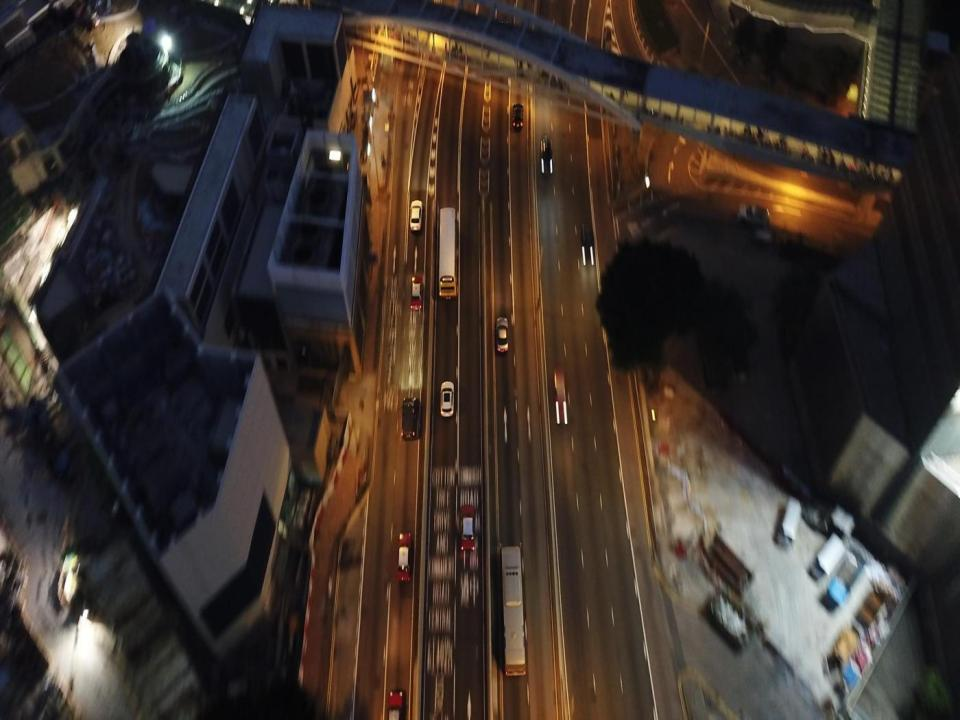bus: (500, 546, 525, 674), (439, 206, 458, 299)
car: (552, 370, 567, 424), (460, 504, 476, 551), (580, 221, 595, 267), (397, 533, 411, 581), (540, 137, 554, 175), (386, 692, 405, 718), (440, 380, 453, 415), (495, 318, 508, 351), (411, 276, 422, 311), (409, 200, 422, 229), (512, 102, 524, 130)
truck: (827, 549, 865, 606)
van: (810, 533, 845, 578), (778, 496, 802, 546), (400, 398, 418, 440), (738, 203, 771, 223)
